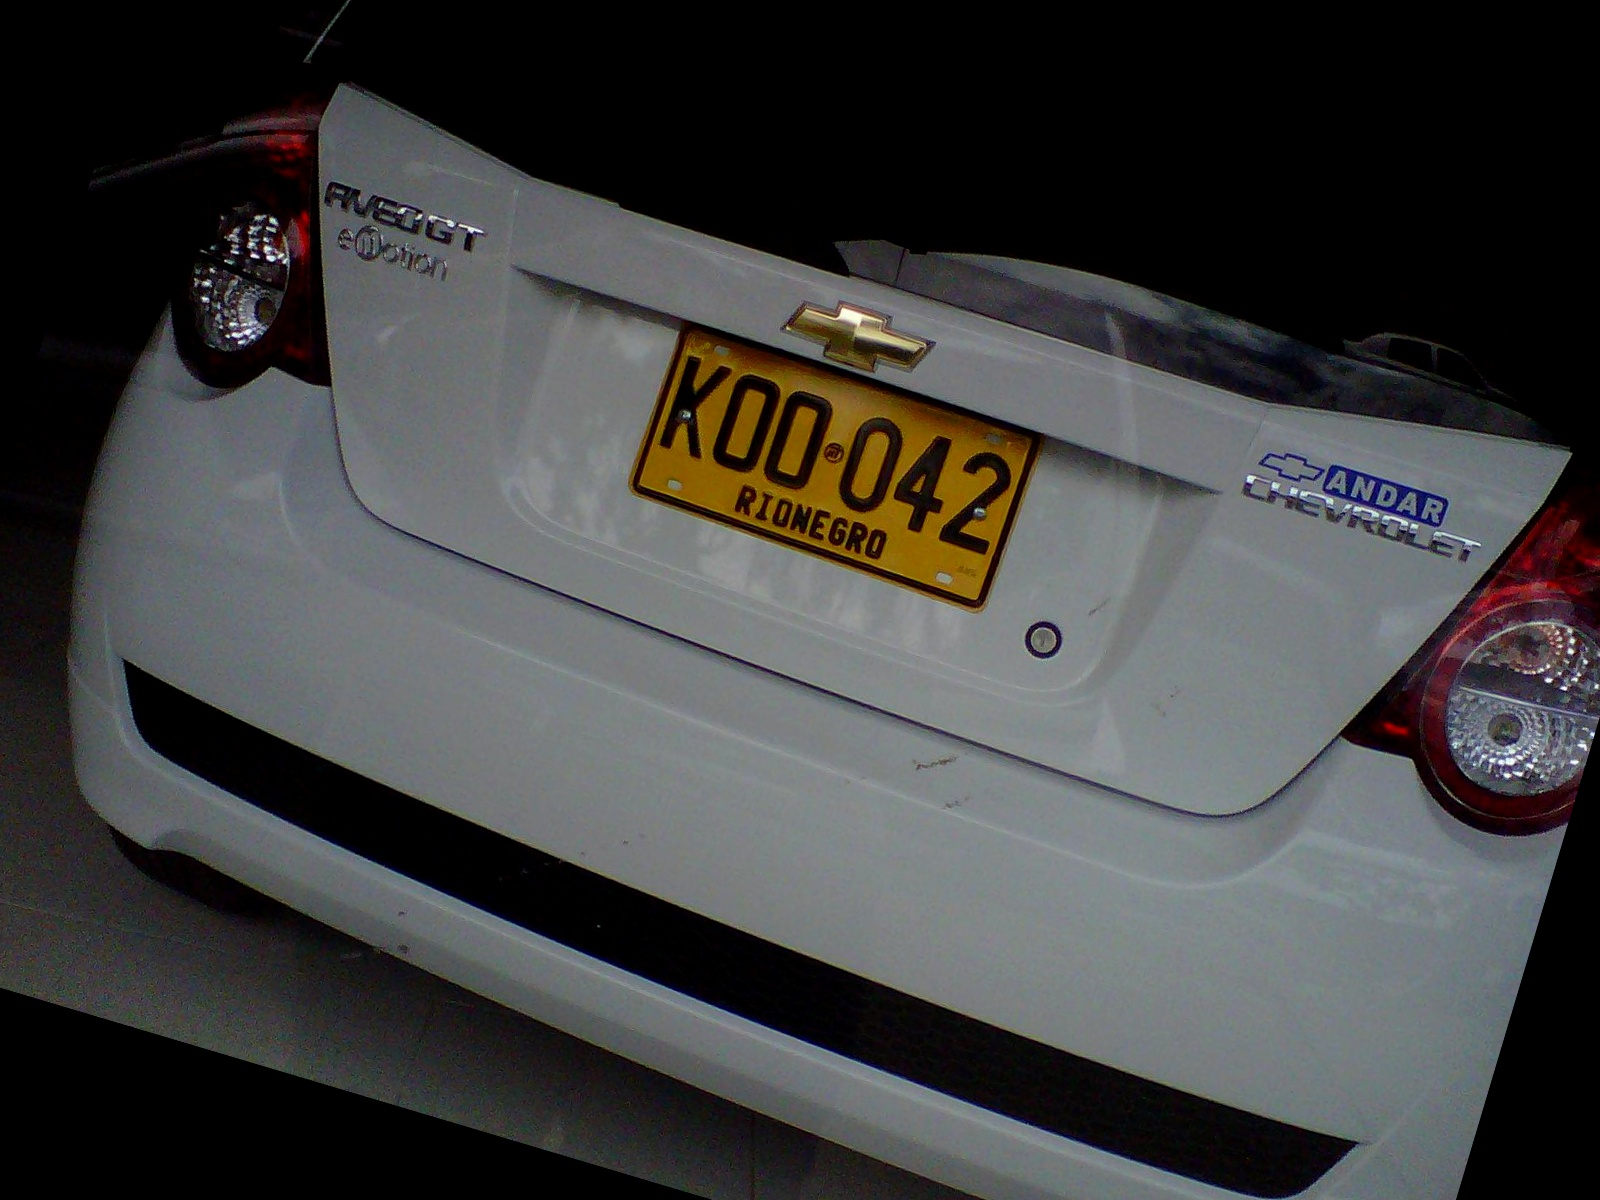placas: (615, 306, 1054, 623)
